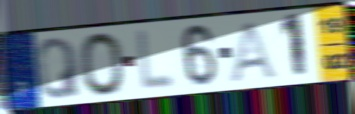1: (278, 11, 310, 81)
6: (179, 21, 220, 90)
A: (227, 18, 281, 82)
L: (136, 27, 177, 94)
O: (77, 30, 127, 99)
Q: (34, 35, 84, 101)
